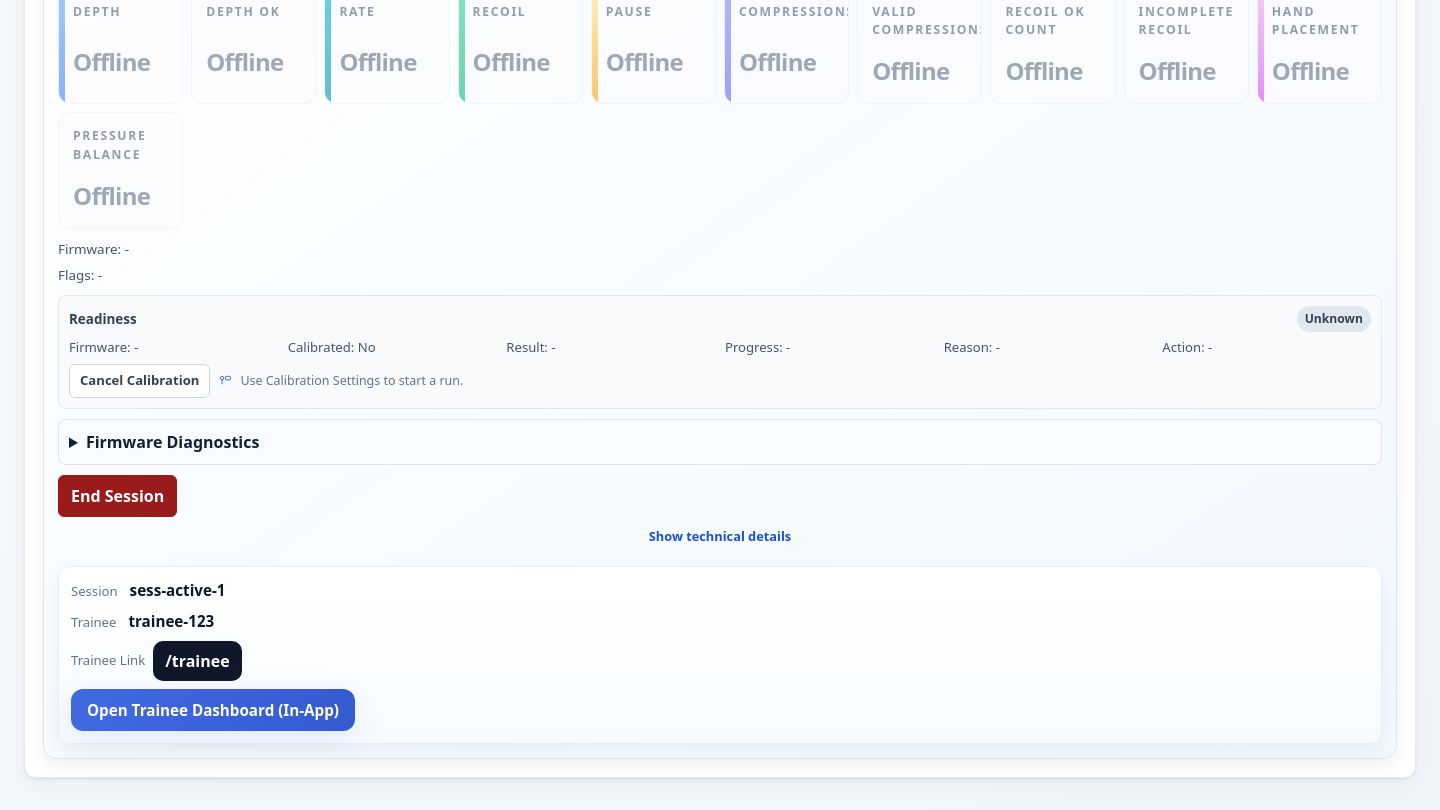
InstructorDashboard › ends an active session
The width and height of the screenshot is (1440, 810).
(page scrolled)
Click the button "End Session": click(118, 496) [58, 475, 177, 517]
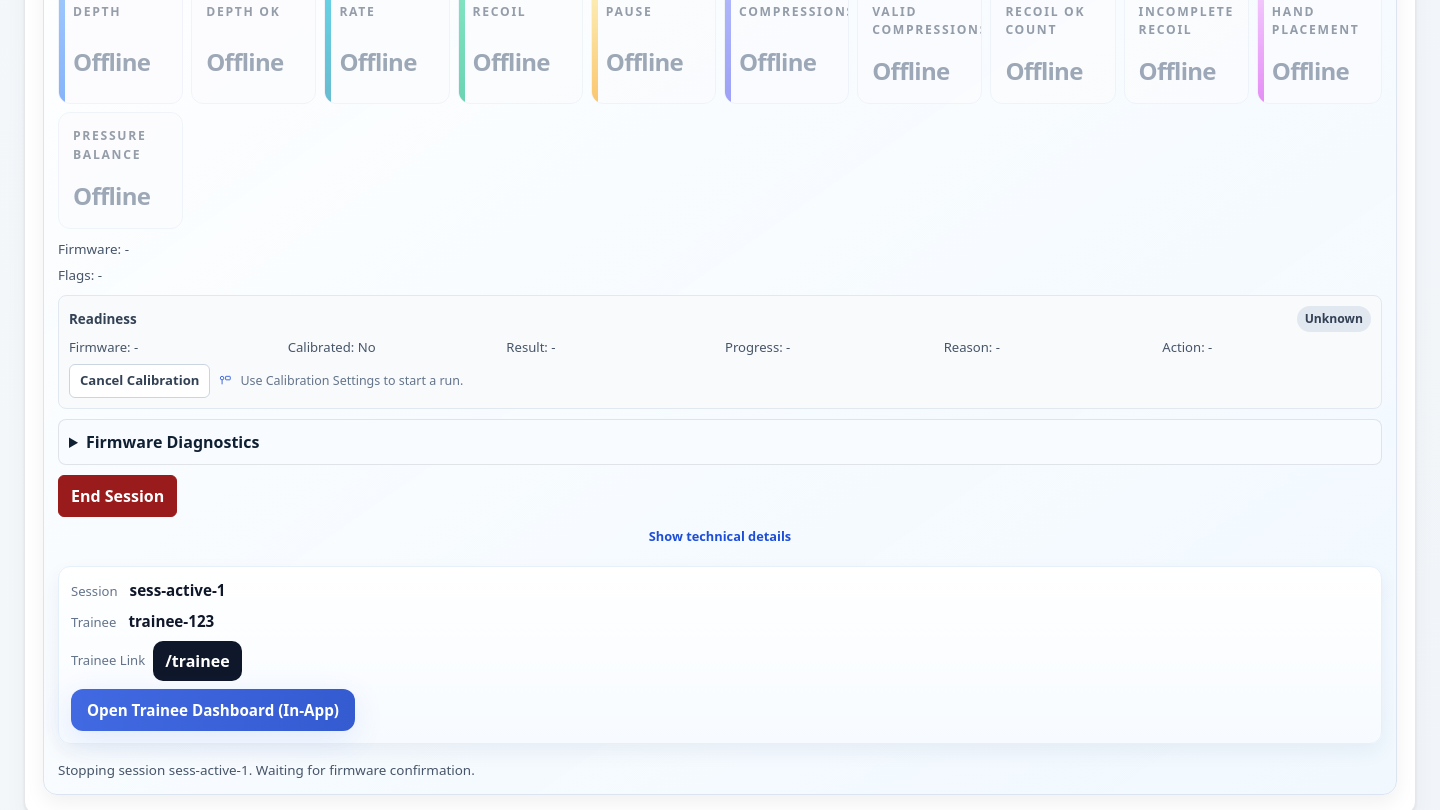
Expected: the text "Stopping session sess-active-1" is shown, [58, 761, 475, 779]
